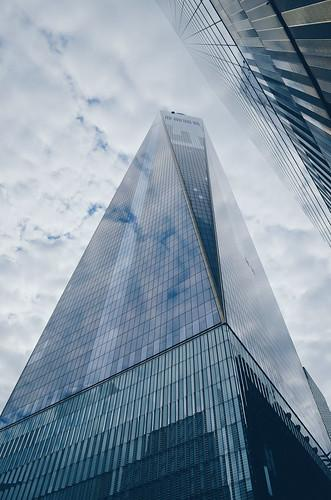building: (2, 105, 331, 500)
